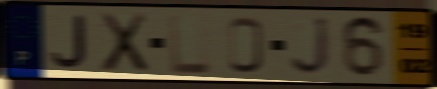0: (227, 15, 266, 74)
6: (340, 14, 391, 81)
J: (289, 15, 334, 78), (48, 14, 90, 70)
L: (167, 12, 214, 76)
X: (97, 11, 150, 74)
